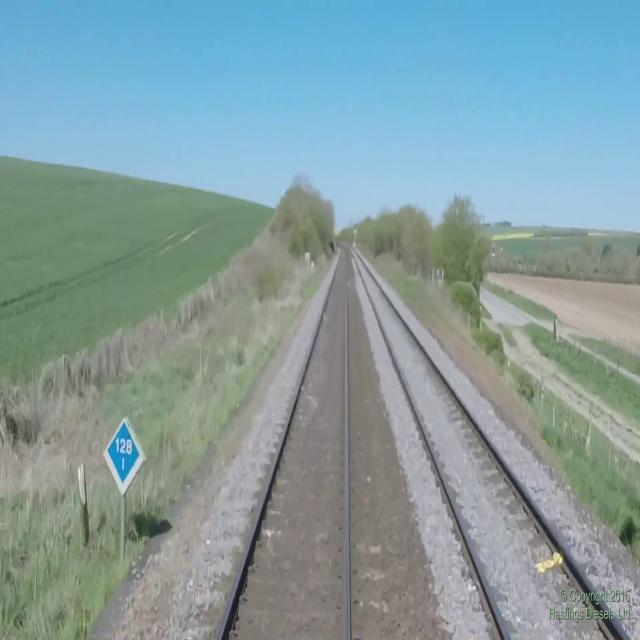rail-track: (344, 244, 624, 639), (219, 247, 346, 639)
